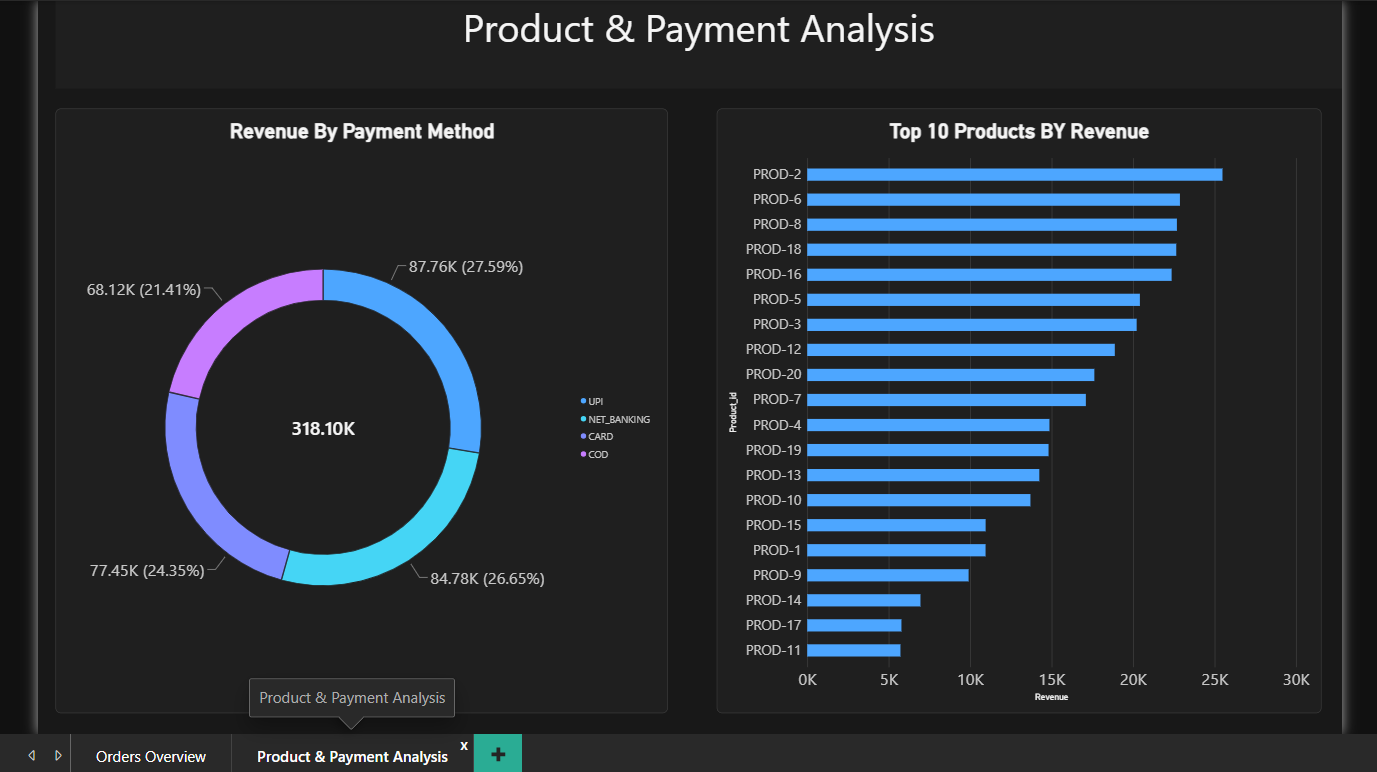

What the dashboard file says about the page in this screenshot:
{"tool":"powerbi","page":{"name":"Product & Payment Analysis","canvas":[1920,1080],"ordinal":1},"visuals":[{"type":"donutChart","title":"Revenue By Payment Method","fields":{"Category":["gold_payment_metrics.payment_method"],"Y":["Sum(gold_payment_metrics.total_revenue)"]},"box":[26.5,159.1,901.7,890.3],"z":0},{"type":"textbox","box":[26.5,0,1894.3,128.8],"z":1000},{"type":"clusteredBarChart","title":"Top 10 Products BY Revenue","fields":{"Category":["gold_product_metrics.product_id"],"Y":["Sum(gold_product_metrics.total_revenue)"]},"box":[1000.2,159.1,890.3,890.3],"z":2000}]}

Visuals, with their boxes on the page's 1920x1080 design canvas (x1, y1, x2, y2). These are canvas units, not pixel positions in the 1377x772 screenshot, which may show the page scaled, cropped or inside an application window:
"Revenue By Payment Method" donutChart: x1=26, y1=159, x2=928, y2=1049
textbox: x1=26, y1=0, x2=1921, y2=129
"Top 10 Products BY Revenue" clusteredBarChart: x1=1000, y1=159, x2=1890, y2=1049
